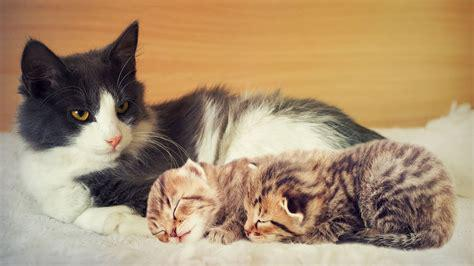cat: (17, 19, 389, 235), (243, 140, 456, 250), (147, 138, 345, 244)
